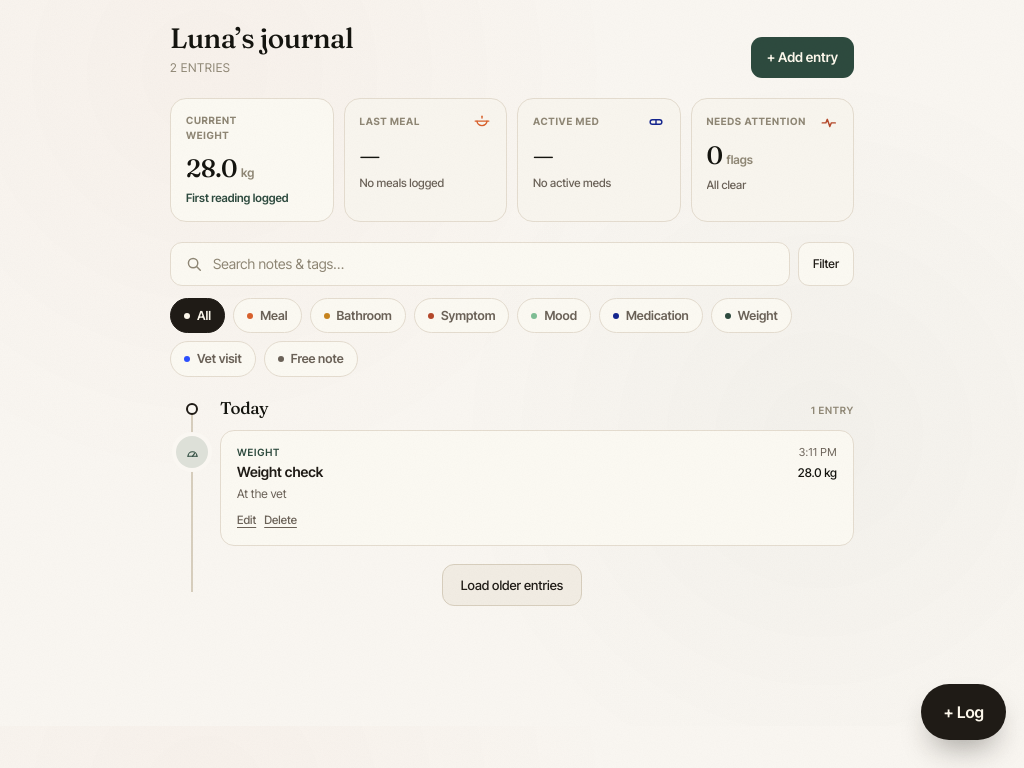
Test: JournalTimeline feed › extends the highlights when unfiltered older pages are loaded
Check: the text "First reading logged" is shown, box [186,191,288,205]
What coordinates should you click on to do the following:
click the button "Load older entries"
I would click on:
 (512, 585)
Its box is [442,564,582,606].
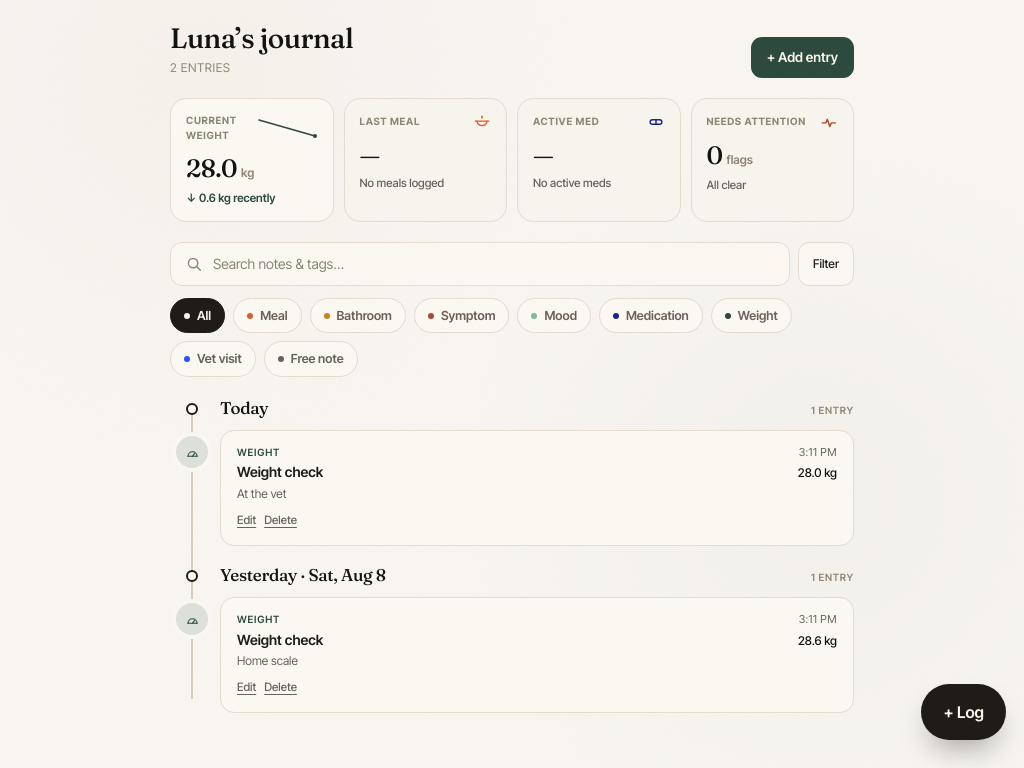
Check: the text "↓ 0.6 kg recently" is shown, box [186,191,276,205]
